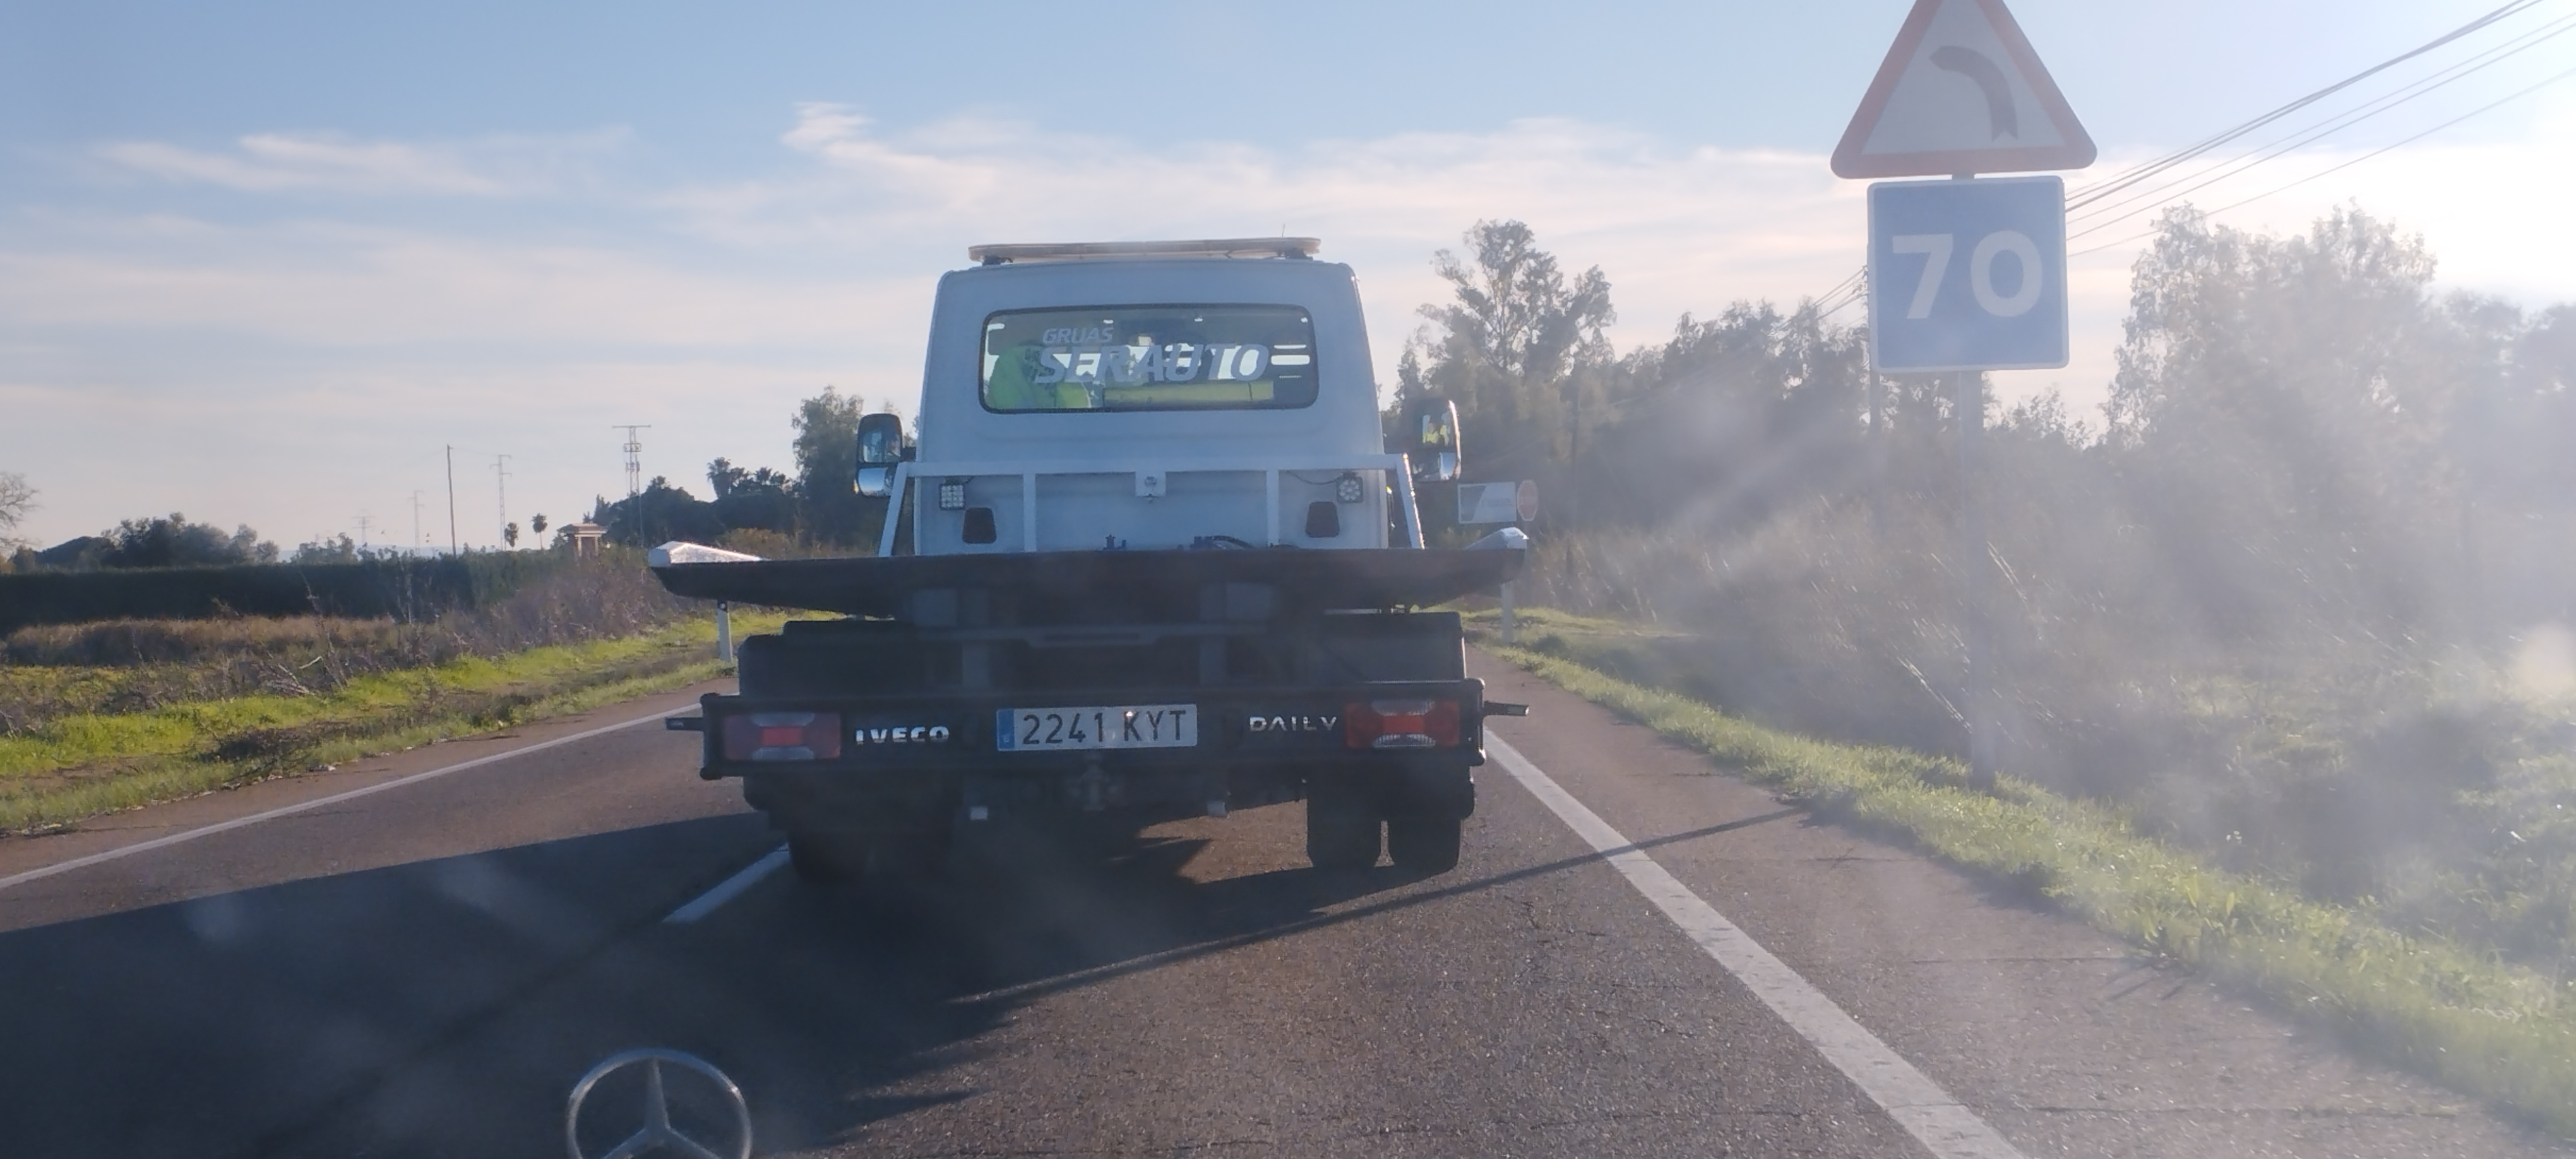Car: (656, 271, 1502, 869)
Plate: (994, 706, 1199, 750)
